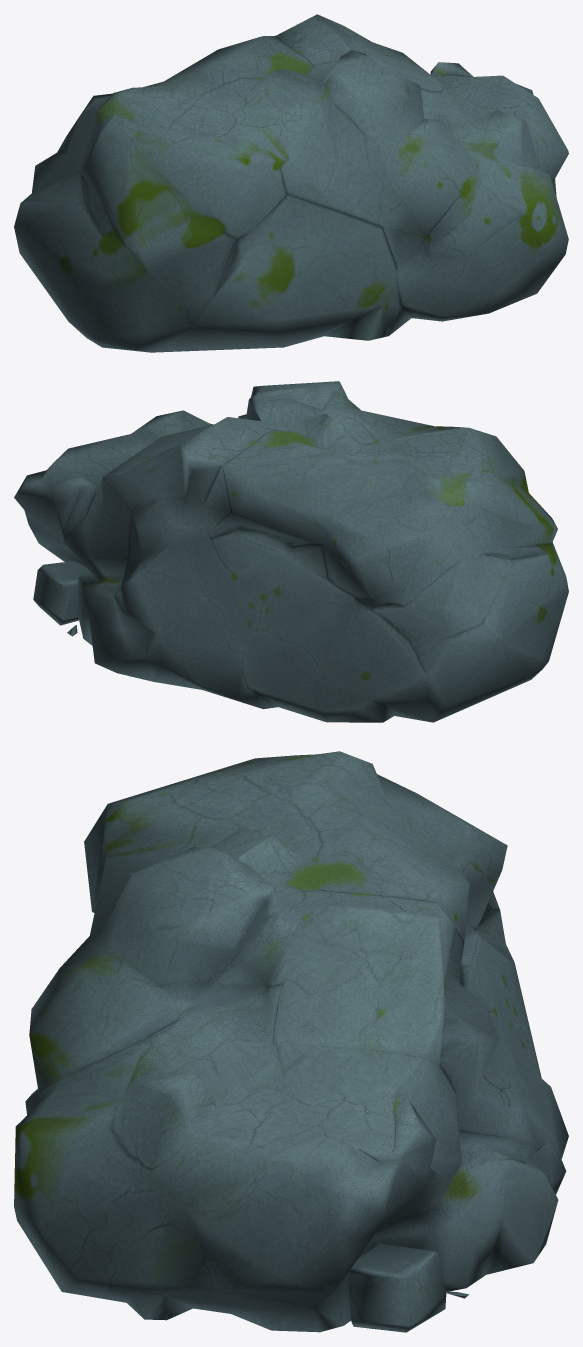
Rendered from rock.glb.
3 renders of one model, top to bottom at view 1: azimuth 30°, elevation 25°; view 2: azimuth 150°, elevation 25°; view 3: azimuth 270°, elevation 25°, orthographic. The views are drawn at different scales.
Size of the model in its own units: 0.9536 by 0.4116 by 0.6187.
Materials: 1 (1 with a texture image).
